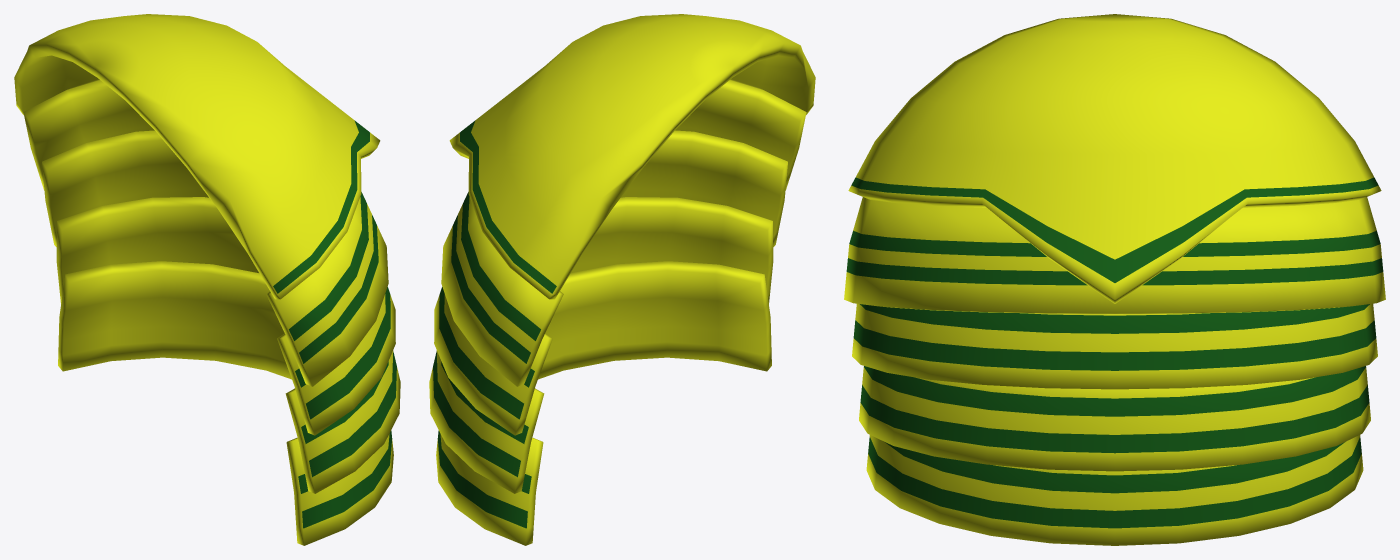
Rendered from hombrera.fbx.
3 views of the same model, side by side, from view 1: azimuth 30°, elevation 25°; view 2: azimuth 150°, elevation 25°; view 3: azimuth 270°, elevation 25° (orthographic).
Visible parts, largest first — view 1: Sphere, Sphere.004, Sphere.003, Sphere.001, Sphere.002; view 2: Sphere, Sphere.004, Sphere.003, Sphere.001, Sphere.002; view 3: Sphere, Sphere.001, Sphere.003, Sphere.002, Sphere.004.
Boxes of the visible parts, x1,y1,x2,y2 form: Sphere: (14,14,380,299); Sphere.004: (58,261,393,545); Sphere.003: (56,197,400,493); Sphere.001: (23,80,388,386); Sphere.002: (42,130,395,435); Sphere: (449,14,815,299); Sphere.004: (436,261,771,545); Sphere.003: (429,197,773,493); Sphere.001: (441,80,806,386); Sphere.002: (434,130,787,435); Sphere: (848,14,1381,303); Sphere.001: (844,197,1385,314); Sphere.003: (859,366,1370,471); Sphere.002: (852,303,1377,389); Sphere.004: (866,435,1363,545).
Bounding box in the file's own units: 5.75 × 8.13 × 9.39.
